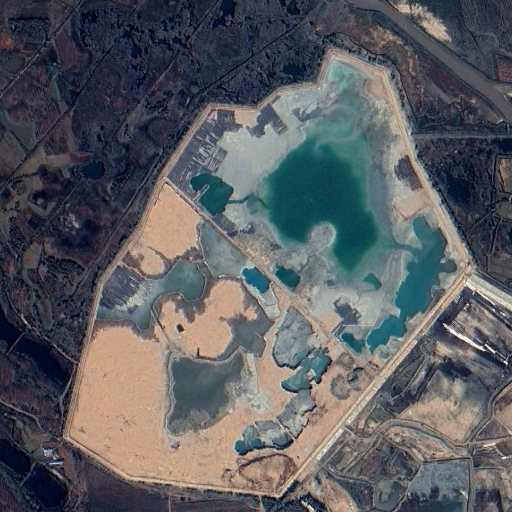tp: (63, 53, 473, 497)
